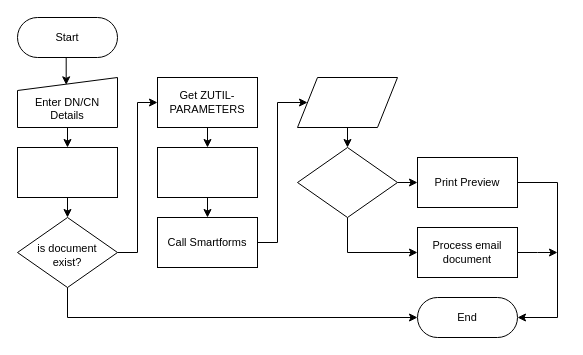
This 583x355 diagram has some shape labels left out. The shapes that lost their labels are listed below. From the top down, each one's box as (x1, y1, x2, y2) in pixels, then its label:
(296, 76, 398, 128): a = checkbox
(16, 146, 118, 198): Check existence of document
(156, 146, 258, 198): Set DN/CN Form Content
(296, 146, 398, 218): is ticked?
